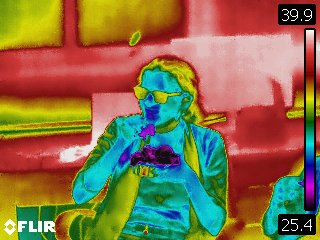human: (67, 55, 230, 240)
